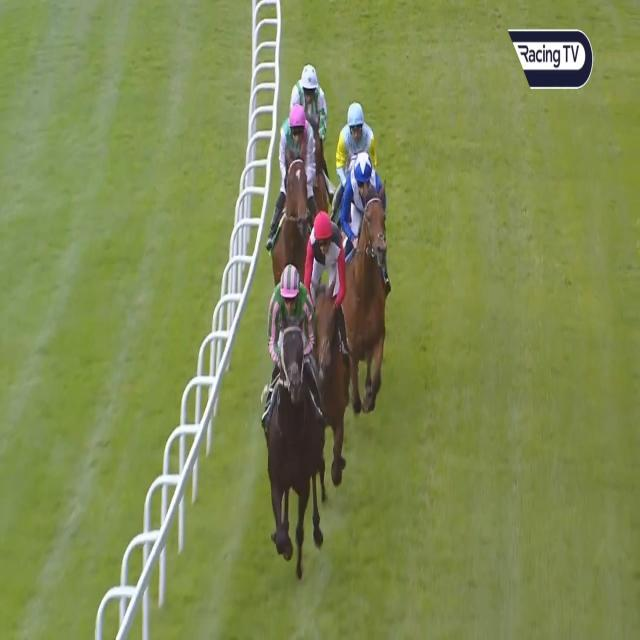horses-racing: (259, 254, 318, 556), (344, 144, 393, 416), (304, 202, 349, 450), (268, 108, 322, 276), (334, 98, 377, 178), (291, 64, 330, 140)
